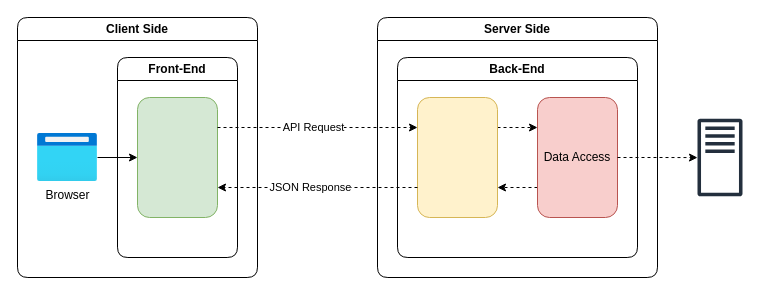
The diagram is 760 pixels wide and 295 high, and some of its shapes have lost their labels. Here are the shapes that lost their labels. From the top down, the centre of each, then its label:
[177,157]: Presentation
[457,157]: Business Logic
[719,157]: DBpedia
